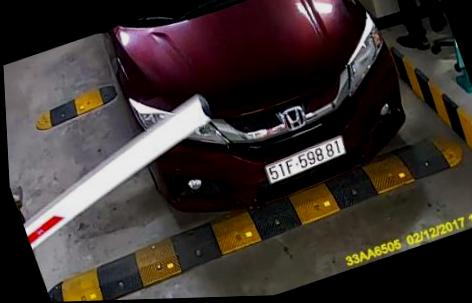License_Plate: (257, 138, 356, 183)
